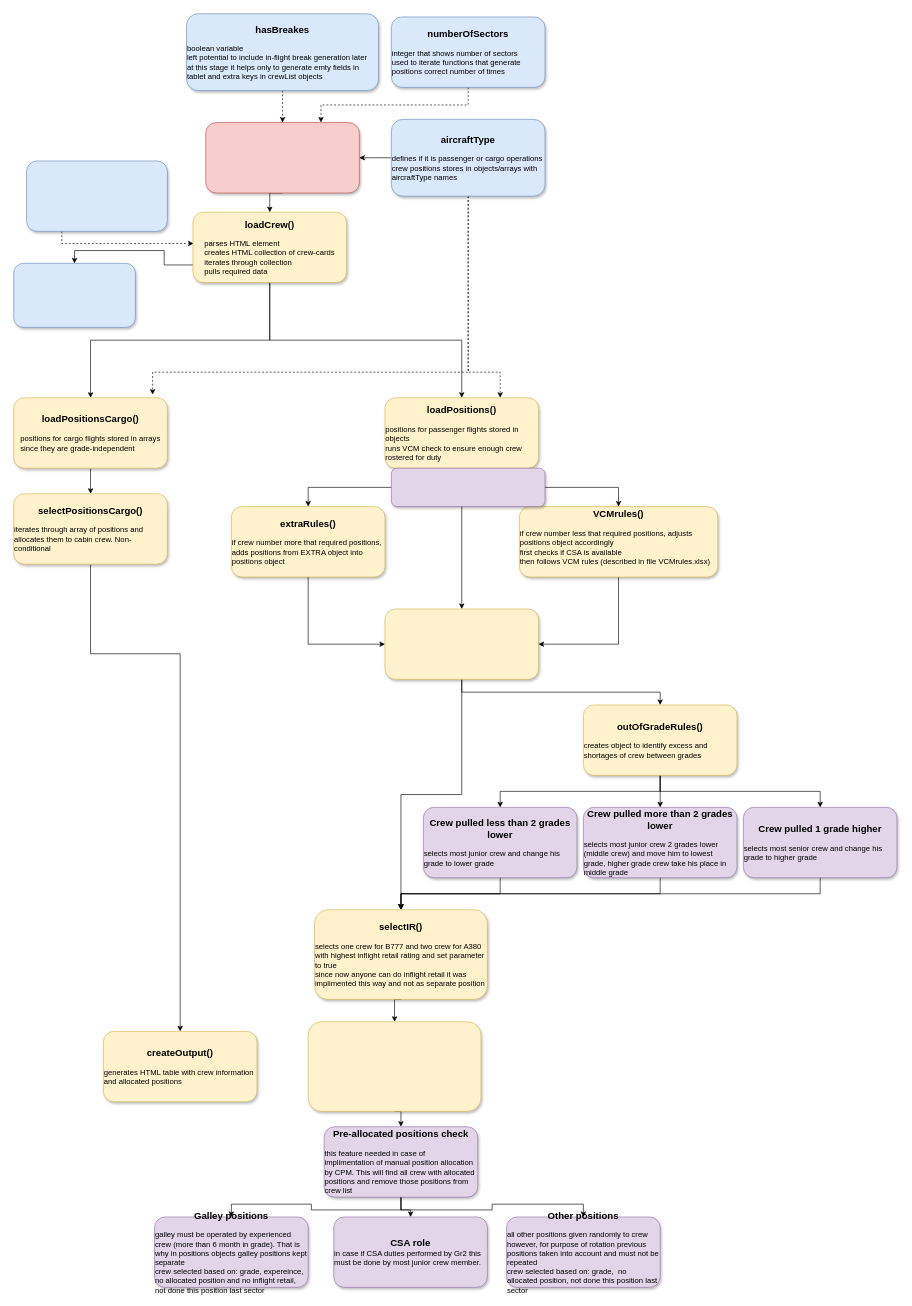
This 912x1306 diagram has some shape labels left out. The shapes that lost their labels are listed below. From the top down, each one's centre as x and y in pixels, then its label:
At (x=283, y=158): "generate() main function".
At (x=97, y=197): "data Crew data Copied/scrapped from website Can use database request instead".
At (x=75, y=296): "crewList array of objects with crew details".
At (x=468, y=488): "VCM check selects most junior crew and change his grade to lower grade".
At (x=462, y=645): "checkOutOfGrade() checks if any grades have shortage or extar crew".
At (x=395, y=1067): "selectPositions() generates positions for passenger flights main".
